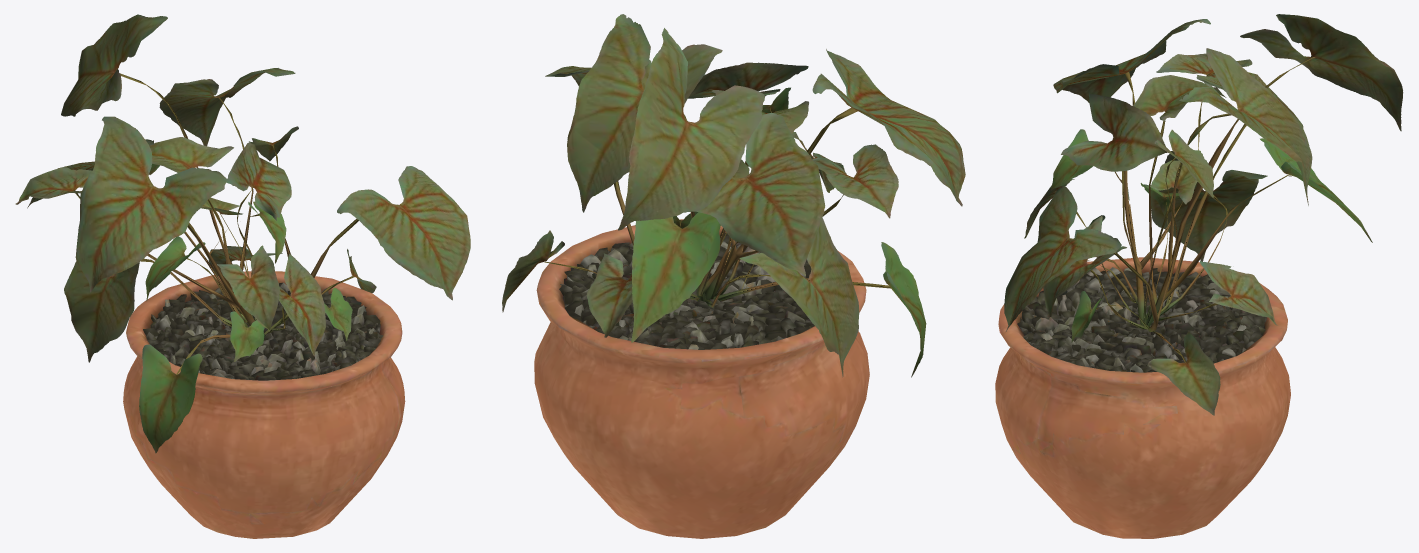
Rendered from pflanze_busch.gltf.
3 renders of one model, left to right at view 1: azimuth 30°, elevation 25°; view 2: azimuth 150°, elevation 25°; view 3: azimuth 270°, elevation 25°, orthographic. The views are drawn at different scales.
Visible parts, largest first — view 1: leaves, pot, dirt; view 2: leaves, pot, dirt; view 3: leaves, pot, dirt.
Part boxes in pixels (bbox=[...]): leaves: bbox=[15, 14, 470, 453]; pot: bbox=[123, 271, 405, 538]; dirt: bbox=[143, 282, 382, 380]; leaves: bbox=[502, 14, 965, 377]; pot: bbox=[534, 219, 869, 538]; dirt: bbox=[559, 232, 814, 349]; leaves: bbox=[1004, 14, 1403, 415]; pot: bbox=[995, 257, 1290, 538]; dirt: bbox=[1017, 267, 1266, 372].
Size of the model in its own units: 0.7005 by 0.8401 by 0.6545.
Materials: 2 (2 with a texture image).
